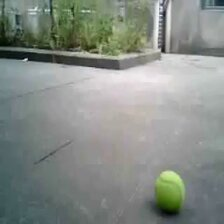tennis: (154, 170, 184, 212)
